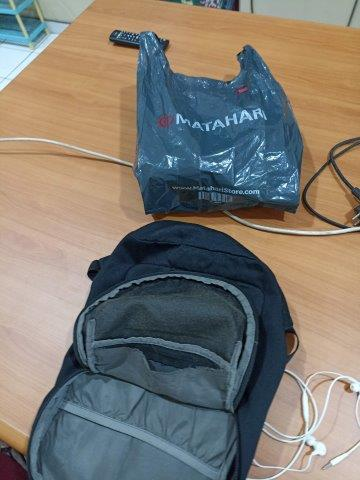plastik: (134, 31, 304, 214)
